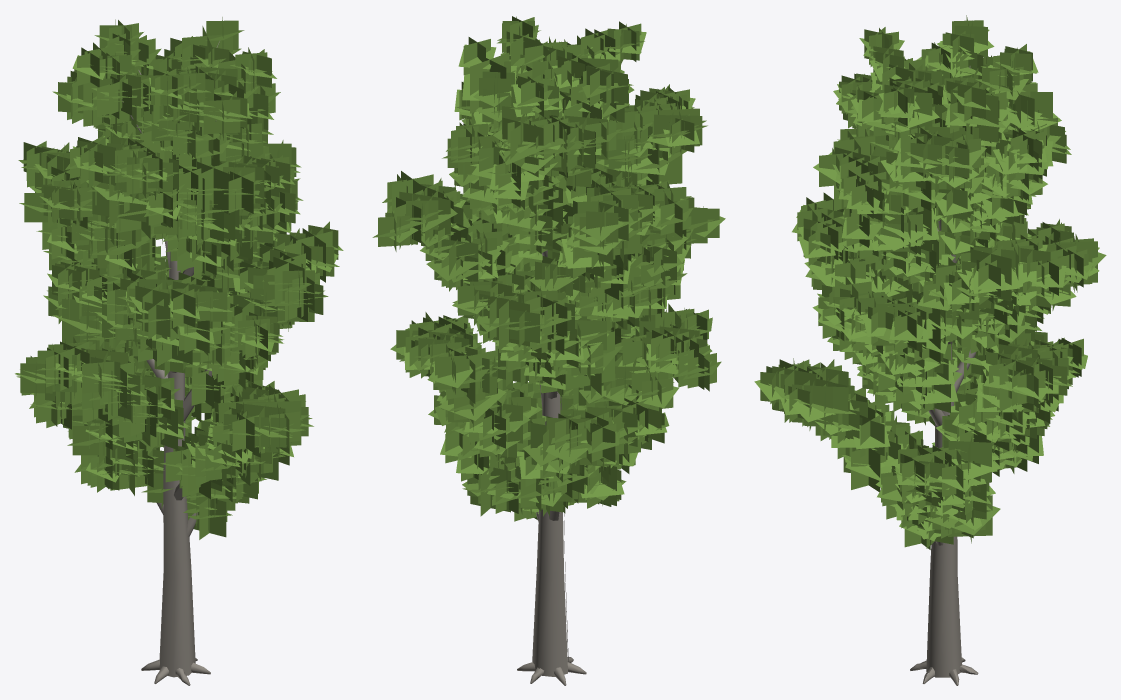
Rendered from tilleul_5_jeu.glb.
The picture shows the model from 3 angles, left to right: view 1: azimuth 30°, elevation 25°; view 2: azimuth 150°, elevation 25°; view 3: azimuth 270°, elevation 25°; orthographic projection.
Parts seen in each view (by area): view 1: Tilleul_T5_Leger; view 2: Tilleul_T5_Leger; view 3: Tilleul_T5_Leger.
Part boxes in pixels (<box>): Tilleul_T5_Leger: <box>15,17,343,685</box>; Tilleul_T5_Leger: <box>372,16,725,685</box>; Tilleul_T5_Leger: <box>754,15,1106,685</box>.
Bounding box in the file's own units: 10.16 × 20.15 × 10.37.
